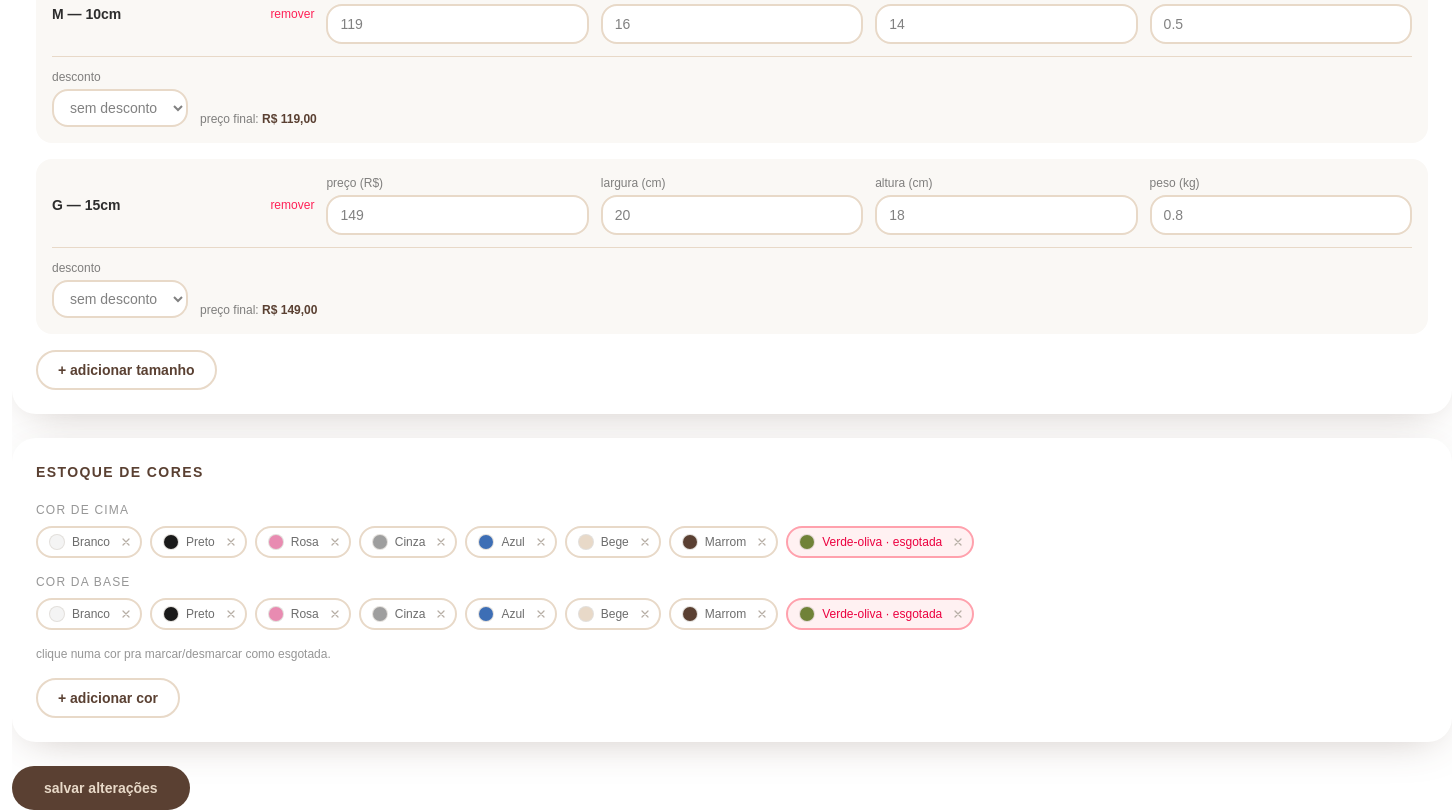
it: ProdutoForm — preço/desconto por tamanho › salva as alterações (PATCH) e mostra confirmação
(page scrolled)
Step 1. Click the button "salvar alterações" → click(101, 788), box [12,766,190,809]
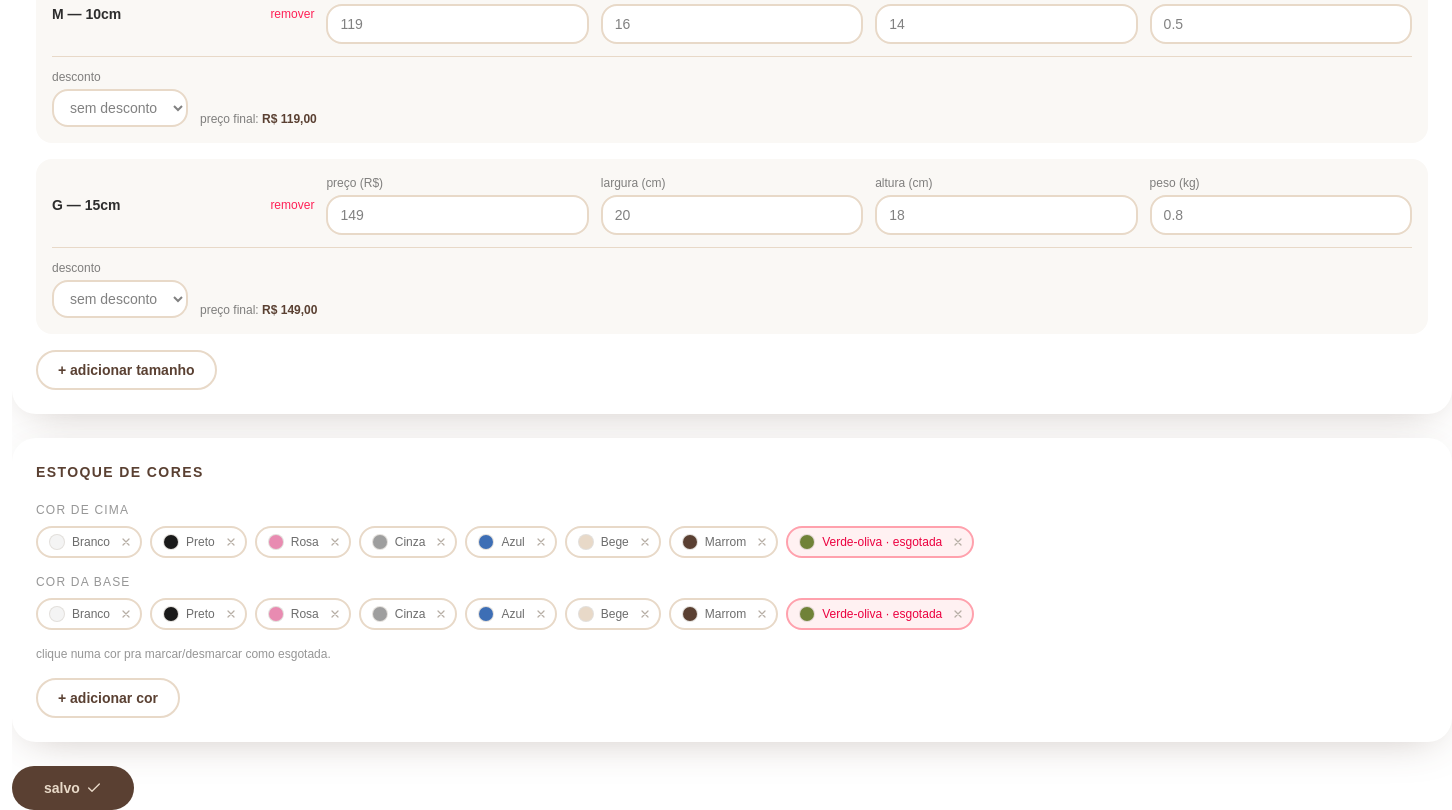
Expected: the button "salvo" is shown, [12,766,134,809]
